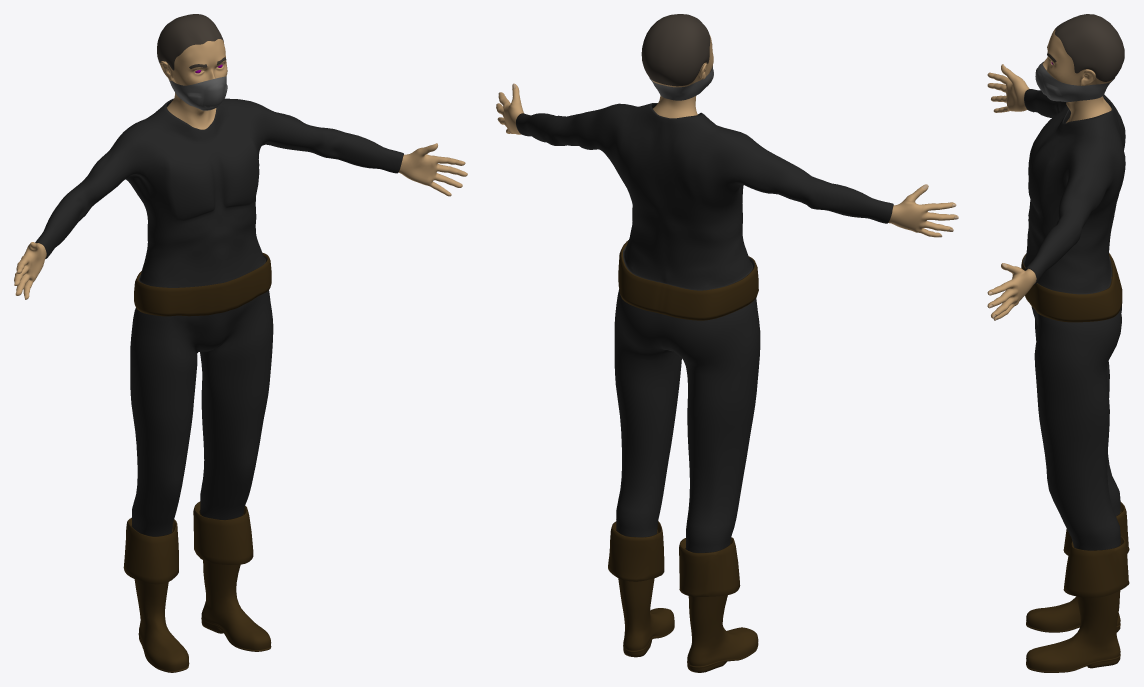
The model's file is rogue_no_cape.fbx.
3 views of the same model, side by side, from view 1: azimuth 30°, elevation 25°; view 2: azimuth 150°, elevation 25°; view 3: azimuth 270°, elevation 25° (orthographic).
Parts seen in each view (by area): view 1: rogue:Rogue_Mesh, rogue:Mask; view 2: rogue:Rogue_Mesh, rogue:Mask; view 3: rogue:Rogue_Mesh, rogue:Mask.
Part boxes in pixels (x1,y1,x2,y2): rogue:Rogue_Mesh: (14, 14, 467, 672); rogue:Mask: (168, 76, 227, 110); rogue:Rogue_Mesh: (496, 14, 958, 672); rogue:Mask: (649, 66, 713, 100); rogue:Rogue_Mesh: (987, 14, 1129, 672); rogue:Mask: (1035, 61, 1115, 102).
Size of the model in its own units: 8.9 by 11.69 by 2.4.
